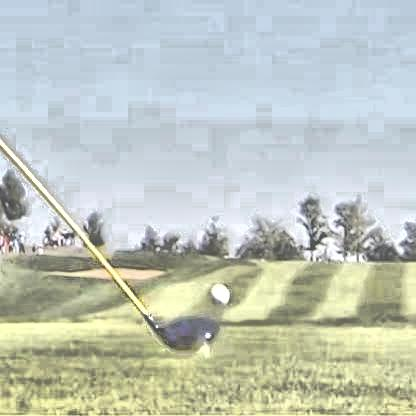golfball: (206, 281, 227, 304)
